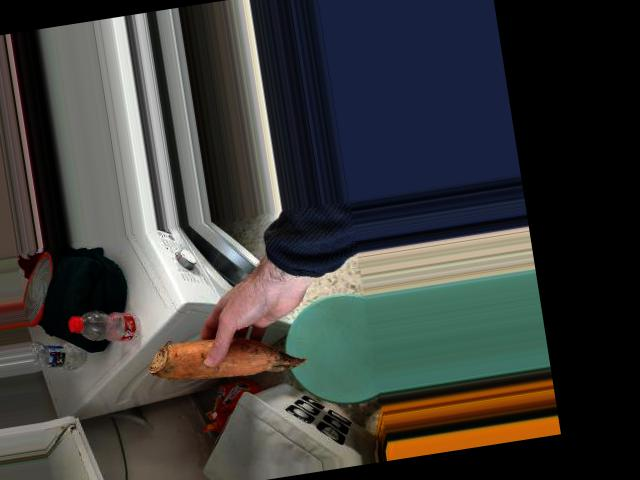sweet_potato: (140, 330, 306, 387)
